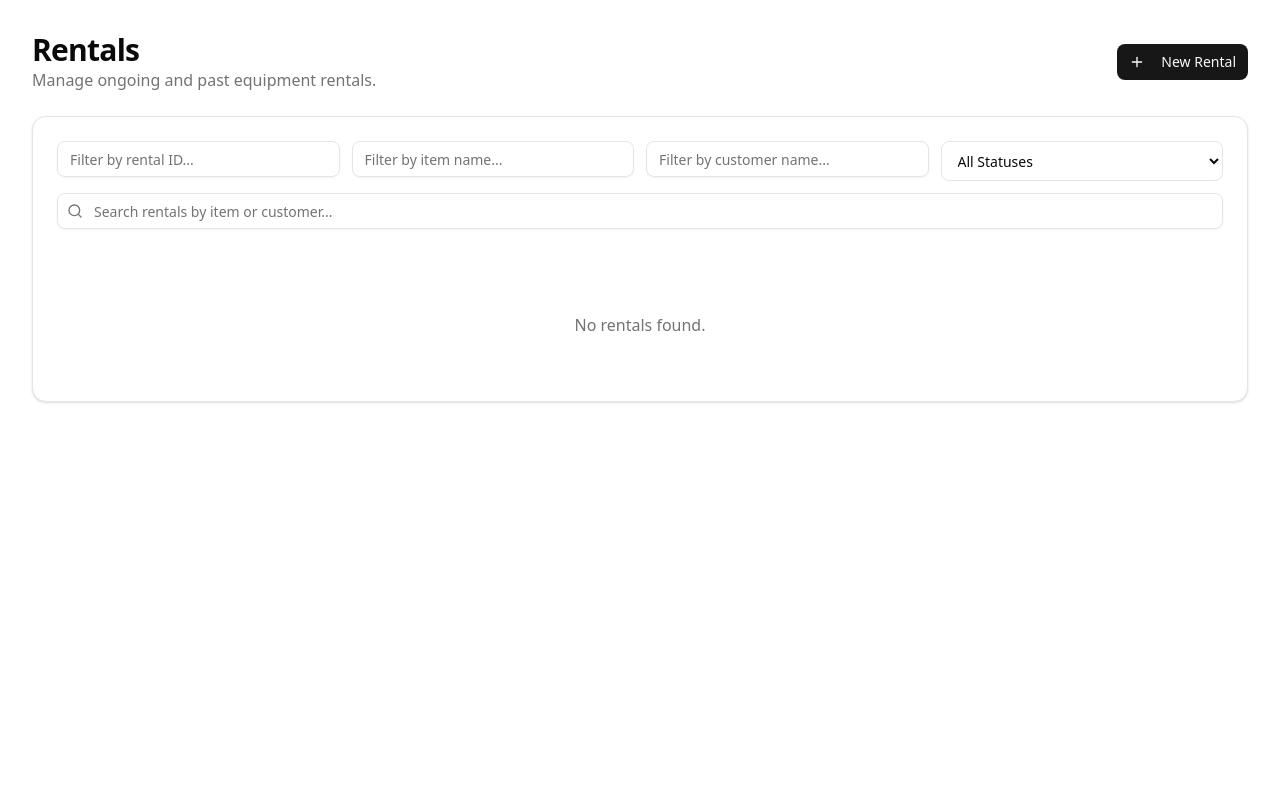
Create New Rental - deposit field › updates the Total Security Deposit summary immediately as the user types
The width and height of the screenshot is (1280, 800).
Click the button "New Rental" at (1183, 62), box 1117,44 -> 1248,80
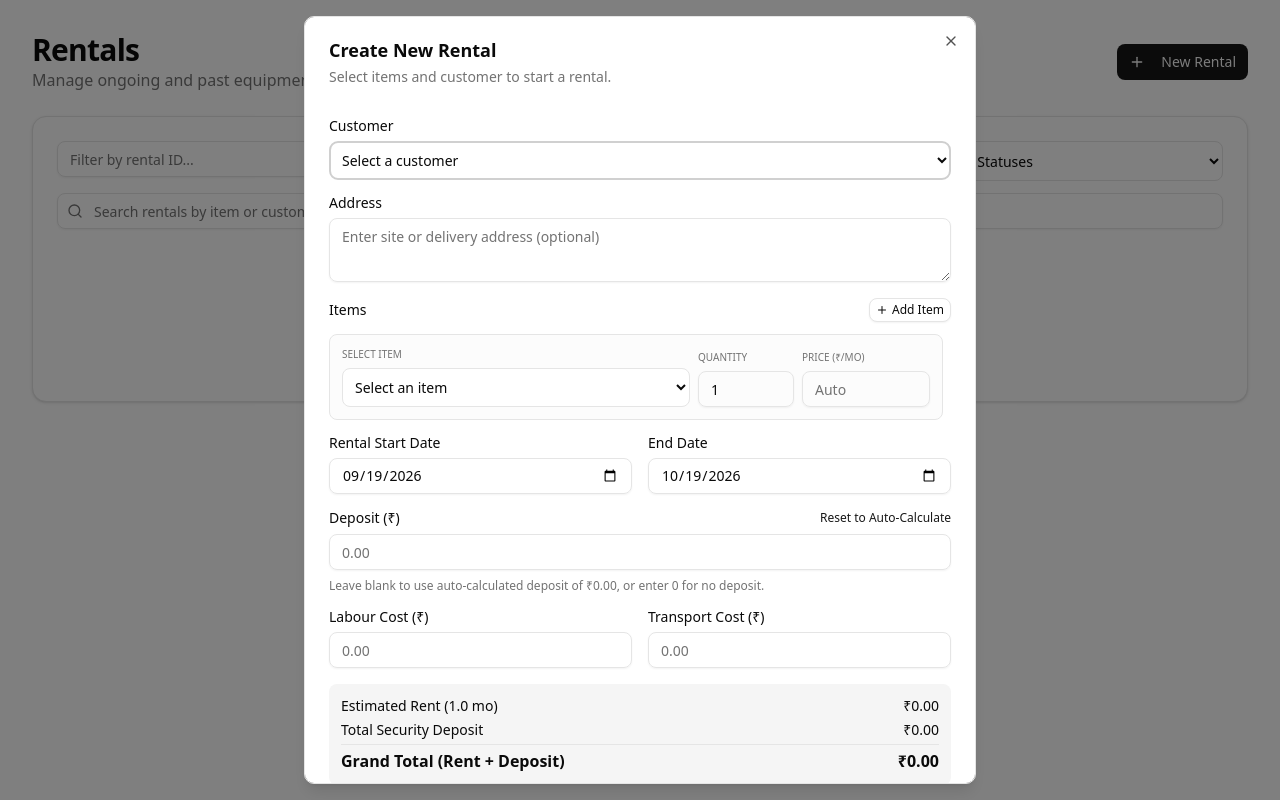
Select "Jane Doe (jane@example.com)" in the dropdown labelled "Customer" at (640, 160), box 329,141 -> 951,180
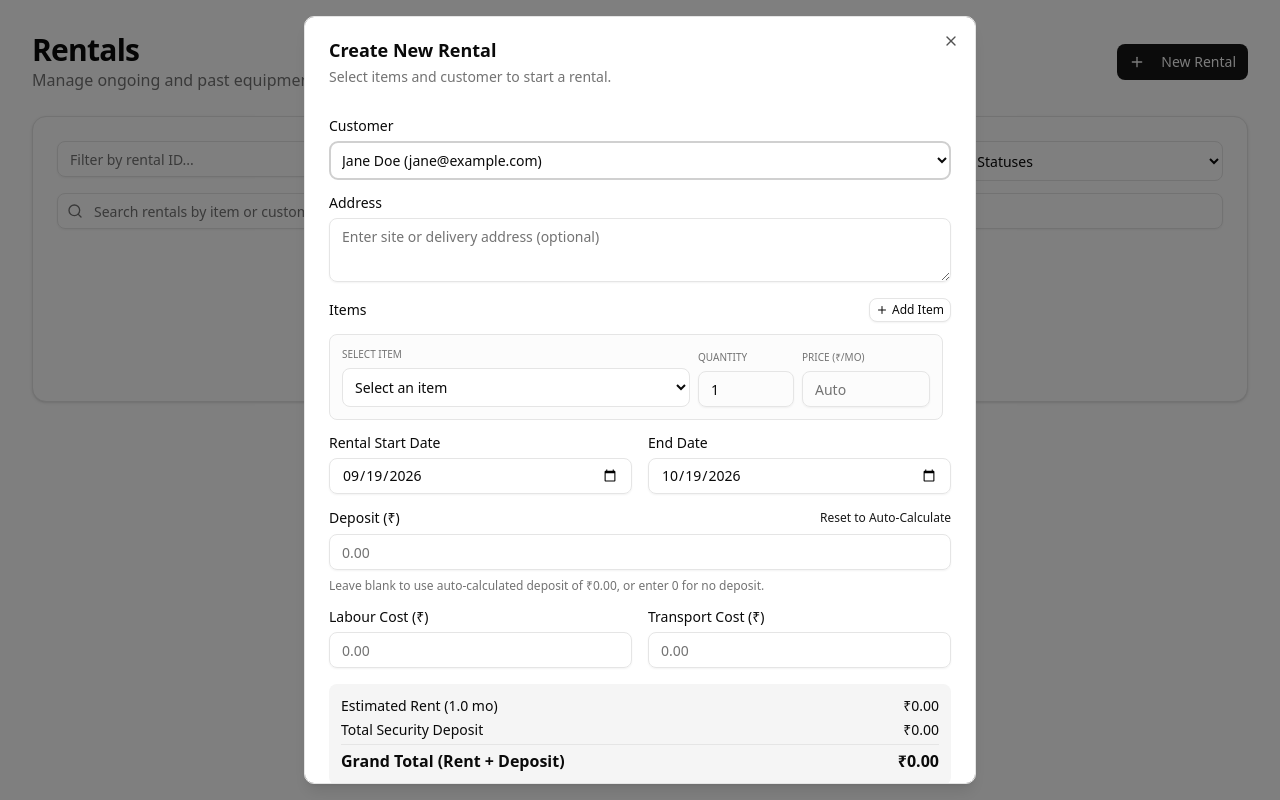
Select "Scaffolding Pipe (Stock: 10)" in the 2nd dropdown at (516, 388), box 342,368 -> 690,407
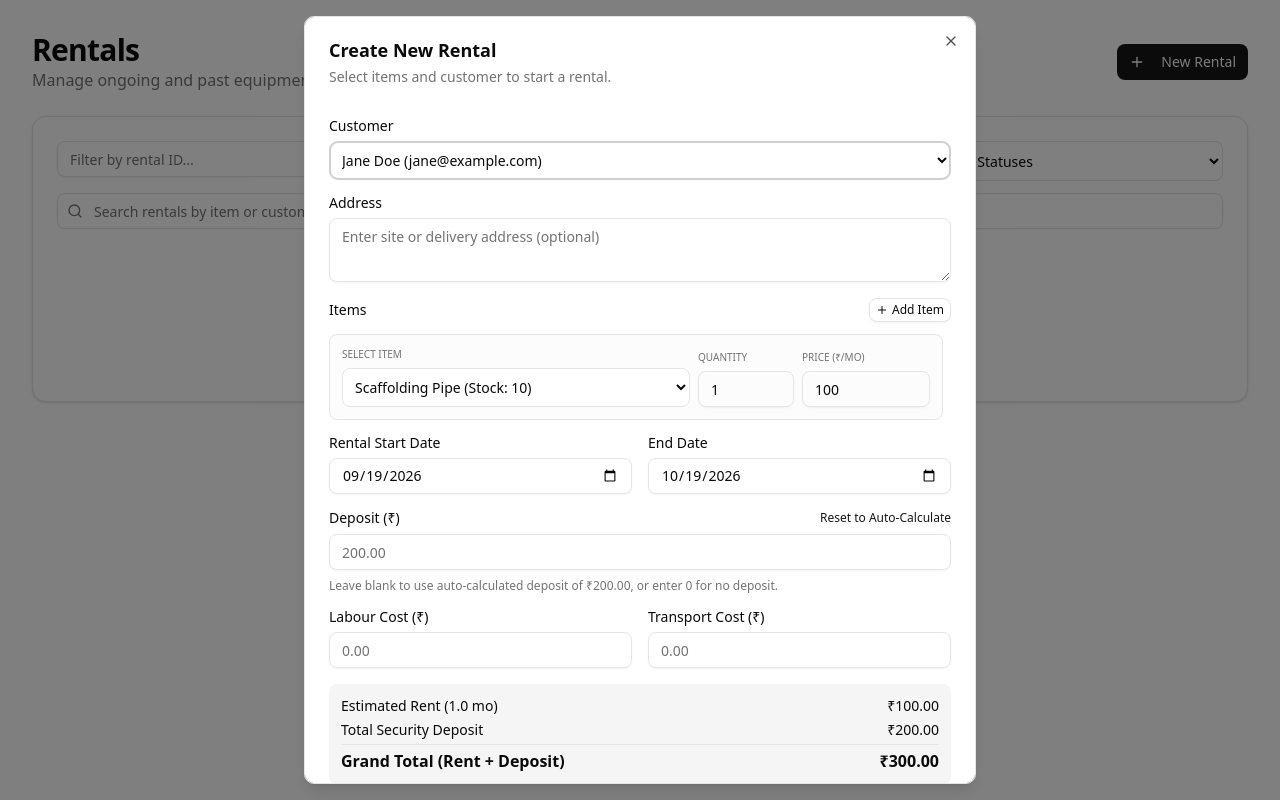
Check: the text "Total Security Deposit" is shown, box 341,720 -> 483,739
Type "1234" into the number field labelled "Deposit (₹)" at (640, 552), box 329,534 -> 951,570
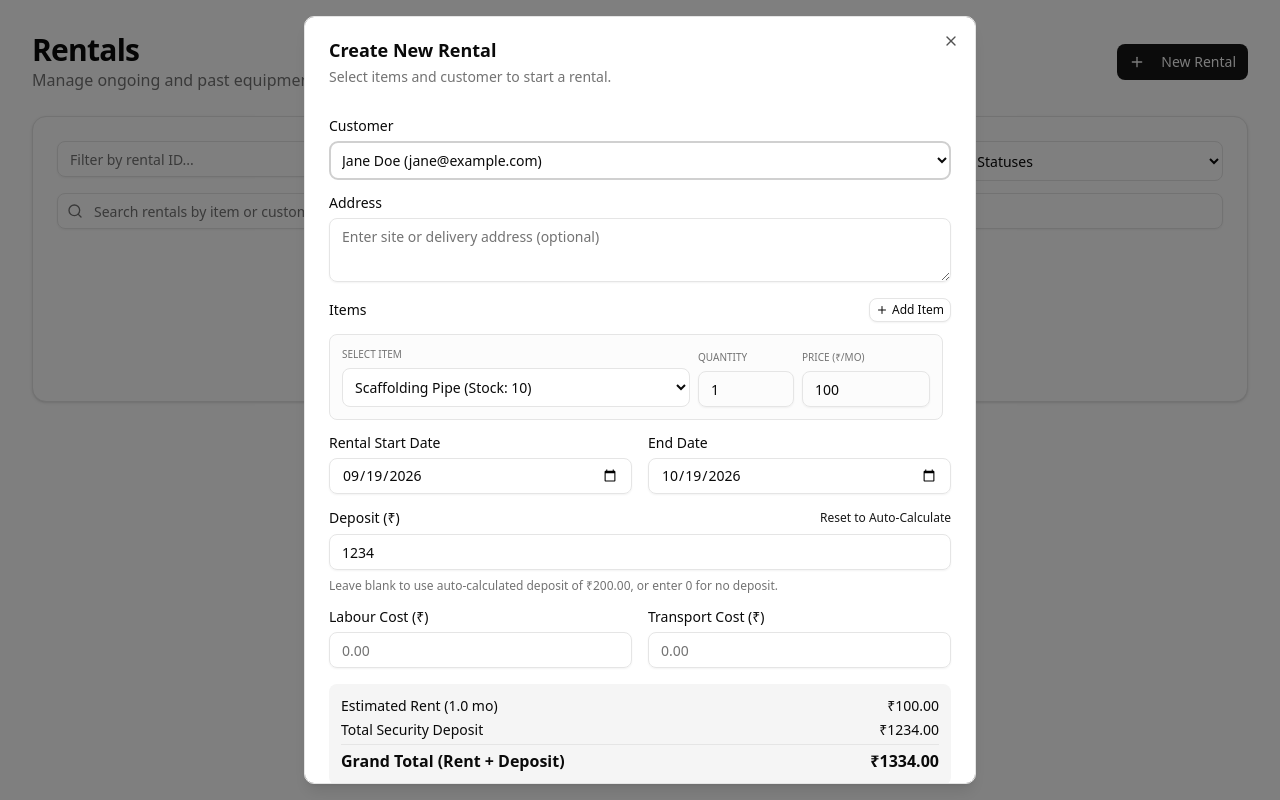
Check: the text "₹1234.00" is shown, box 879,720 -> 939,740
